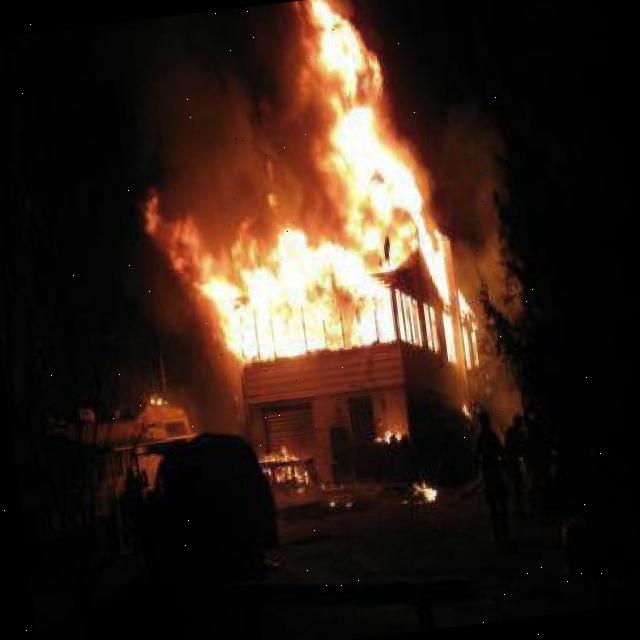fire: (154, 3, 466, 374), (257, 442, 313, 500), (412, 474, 444, 514), (371, 417, 406, 452), (144, 388, 178, 418)
